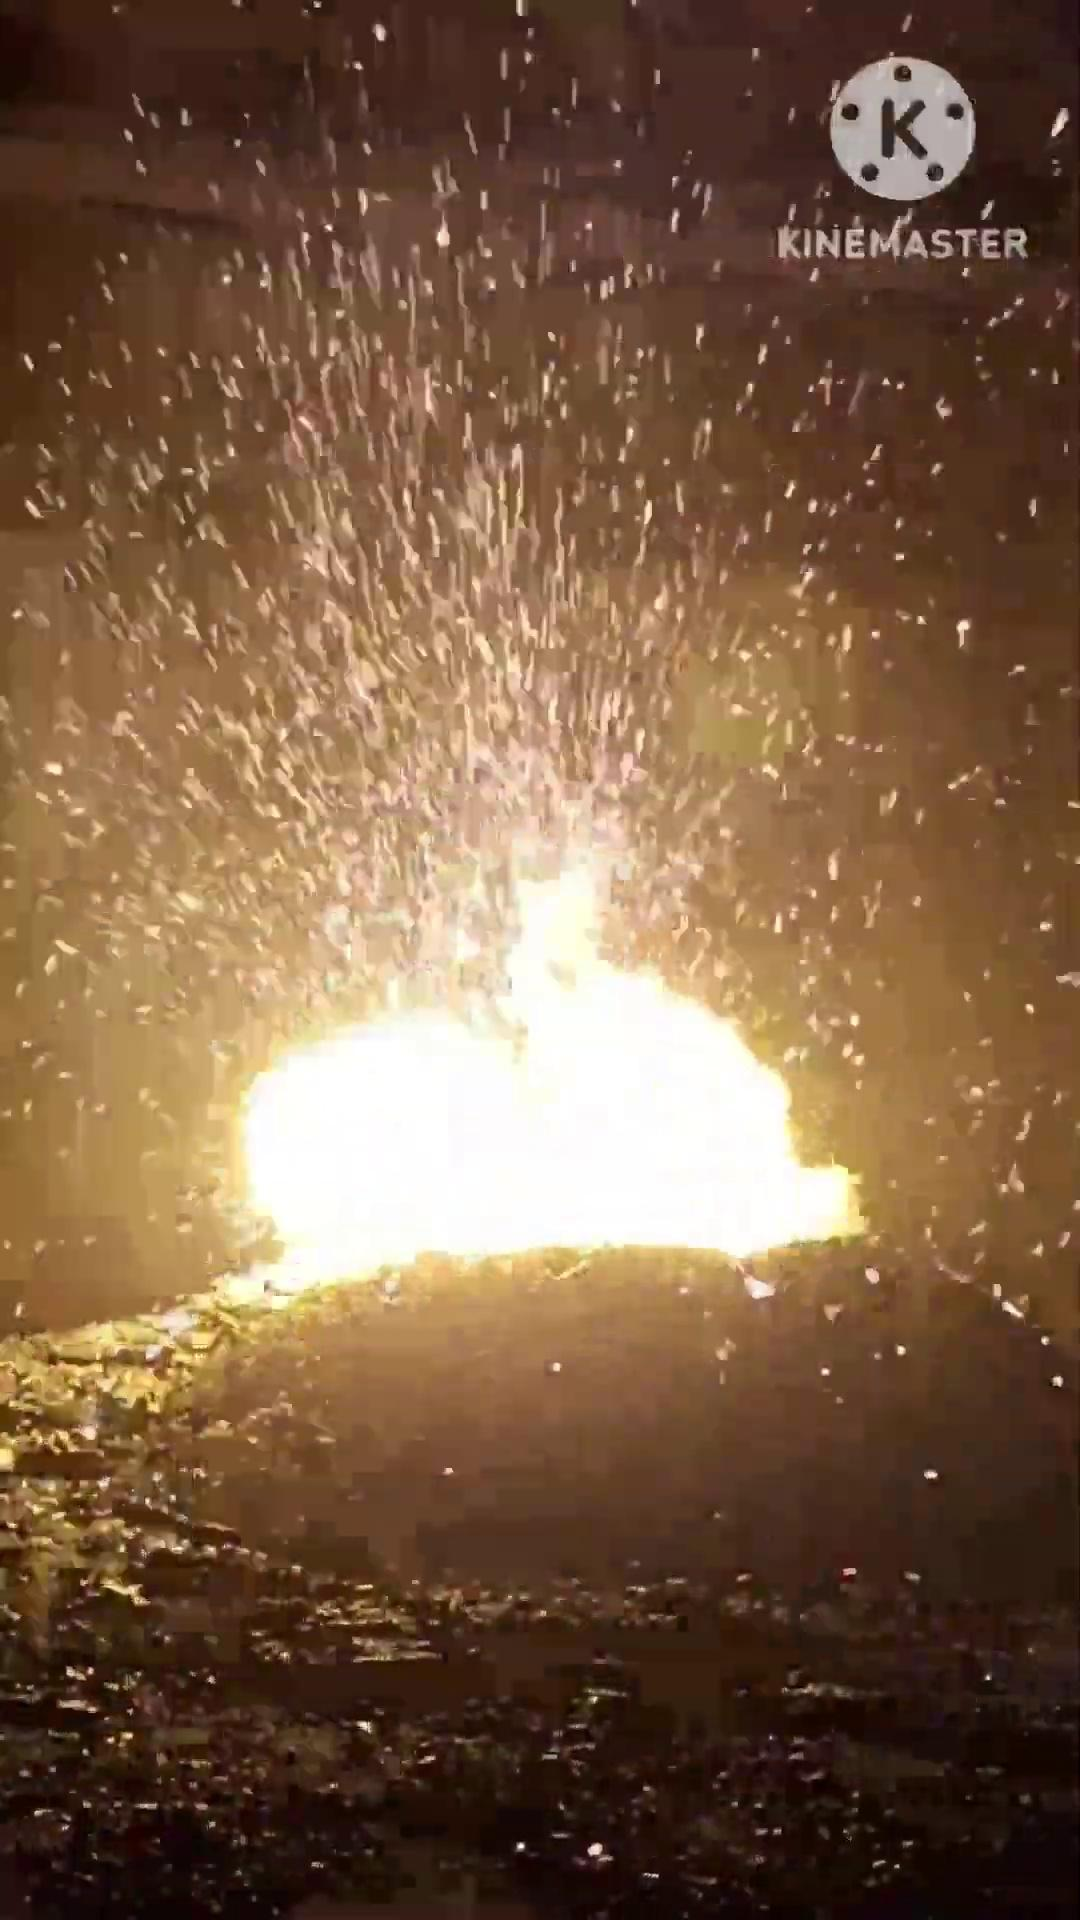fire: (46, 513, 985, 1622)
